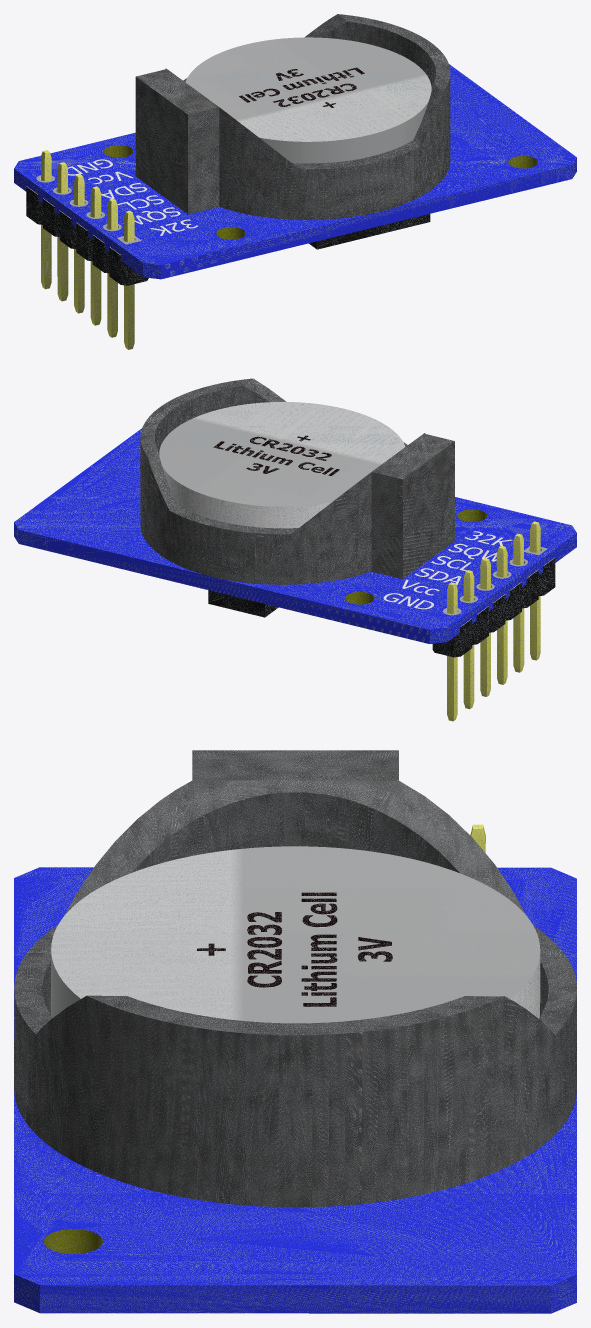
3 renders of one model, top to bottom at view 1: azimuth 30°, elevation 25°; view 2: azimuth 150°, elevation 25°; view 3: azimuth 270°, elevation 25°, orthographic. The views are drawn at different scales.
Visible parts, largest first — view 1: DS3231 (×9); view 2: DS3231 (×11); view 3: DS3231 (×4).
Part boxes in pixels (left/top/right/bottom): DS3231 (×9): left=14, top=14, right=576, bottom=349; DS3231 (×11): left=14, top=378, right=576, bottom=721; DS3231 (×4): left=14, top=750, right=576, bottom=1313.
Size of the model in its own units: 15.09 by 8.58 by 6.95.
18 materials, 2 textured.
